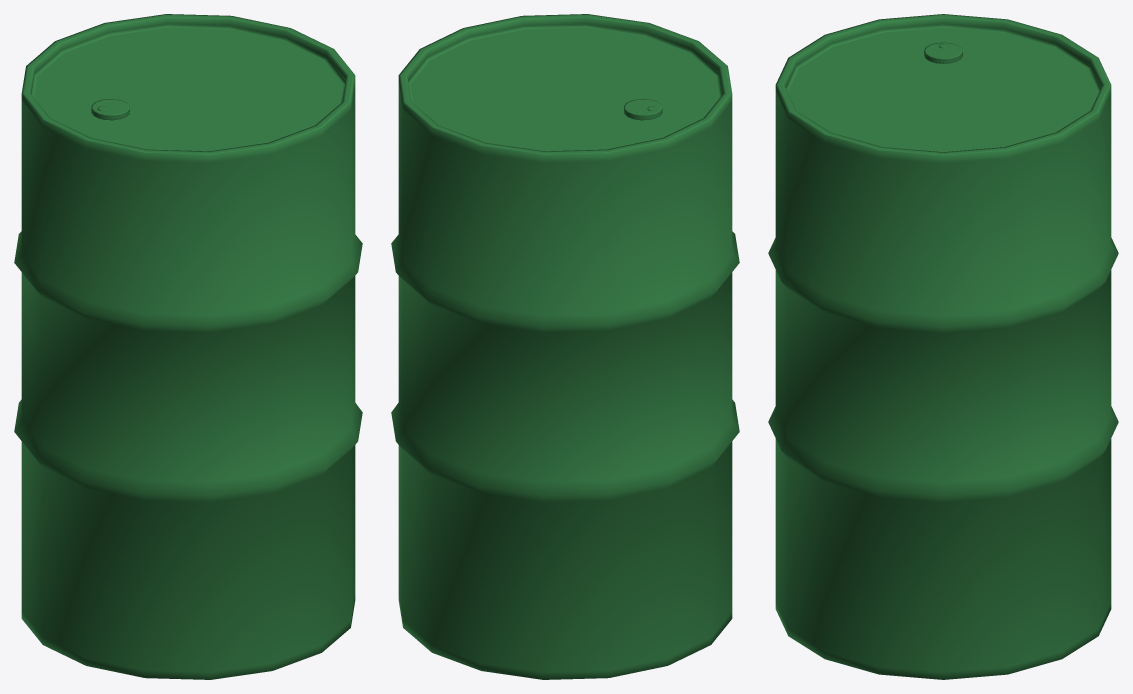
File: Fut.fbx
3 views of the same model, side by side, from view 1: azimuth 30°, elevation 25°; view 2: azimuth 150°, elevation 25°; view 3: azimuth 270°, elevation 25° (orthographic).
Parts seen in each view (by area): view 1: Bidon; view 2: Bidon; view 3: Bidon.
Boxes of the visible parts, left/top/right/bottom form: Bidon: left=14, top=14, right=362, bottom=679; Bidon: left=391, top=14, right=739, bottom=679; Bidon: left=768, top=14, right=1118, bottom=679.
Size of the model in its own units: 69.32 by 114 by 69.32.
